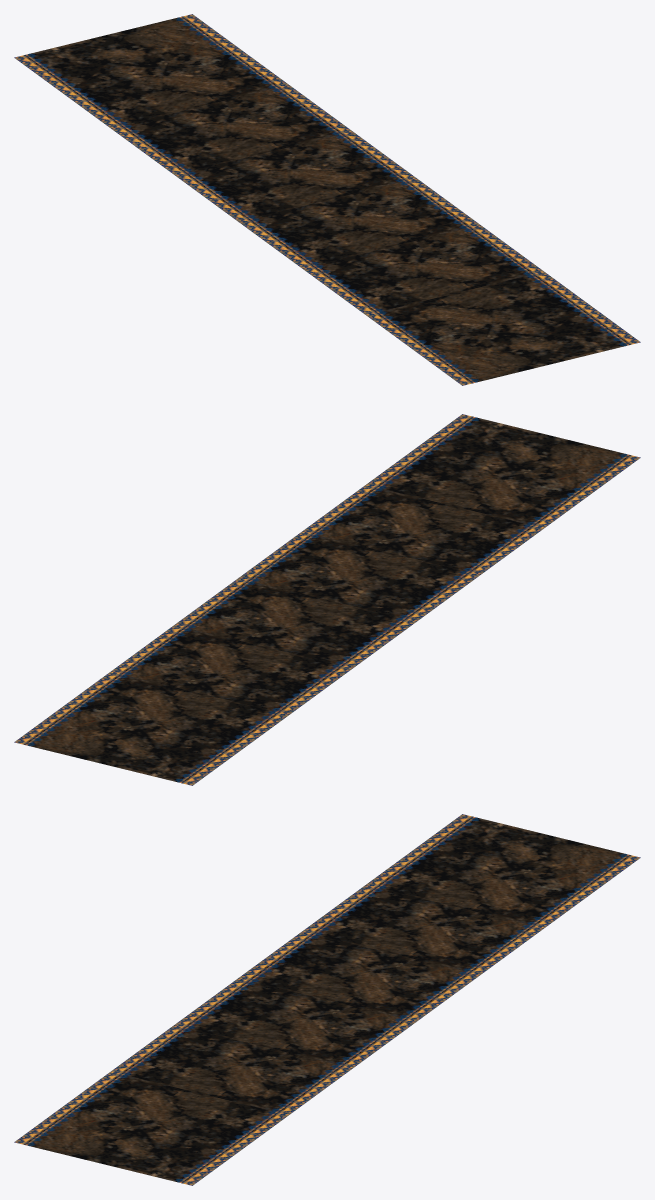
3 renders of one model, top to bottom at view 1: azimuth 30°, elevation 25°; view 2: azimuth 150°, elevation 25°; view 3: azimuth 330°, elevation 25°, orthographic.
Visible parts, largest first — view 1: a123; view 2: a123; view 3: a123.
Boxes of the visible parts, box(x1,y1,x2,y2) form: a123: box(14, 14, 640, 385); a123: box(14, 414, 640, 785); a123: box(14, 814, 640, 1185).
Size of the model in its own units: 457 by 0 by 1989.
